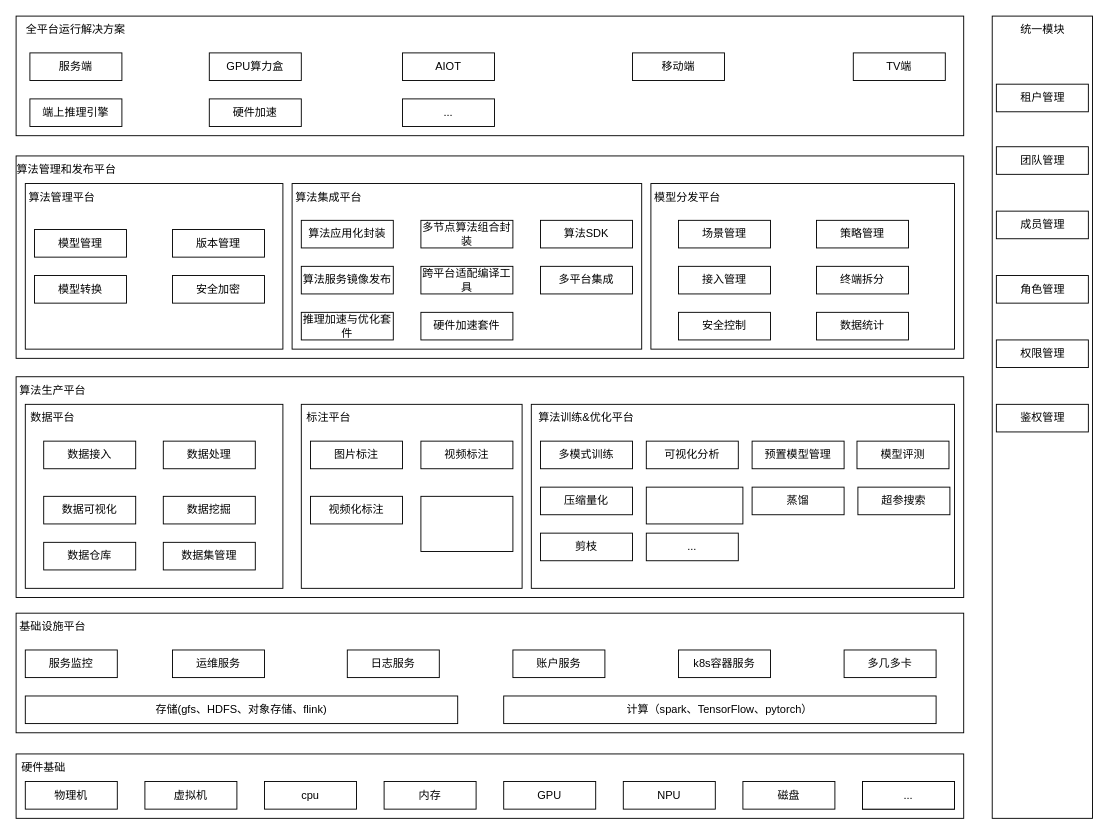
The diagram is 1109 pixels wide and 834 high, and some of its shapes have lost their labels. The centre of each missing label's shape, as x and y in pixels:
"存储结构 标准化服务" belongs at point 466,523.
"网络结构搜索（NAS）" belongs at point 694,505.
